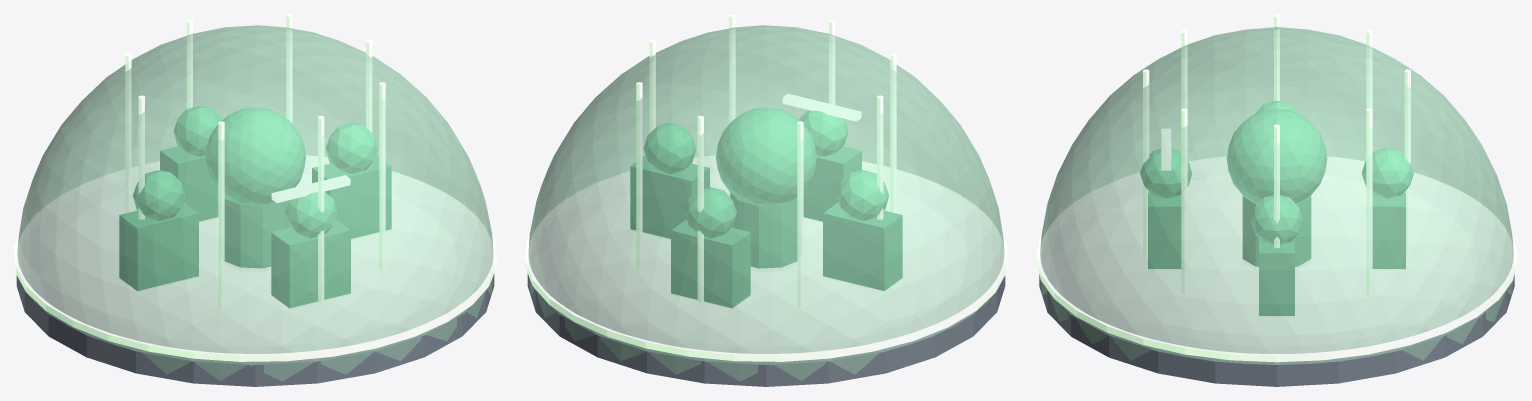
File: greenhouse.glb
3 views of the same model, side by side, from view 1: azimuth 30°, elevation 25°; view 2: azimuth 150°, elevation 25°; view 3: azimuth 270°, elevation 25° (orthographic).
Visible parts, largest first — view 1: dome, dome_equator_ring, base_ring, central_leaves, rack_-0.55_0.0, rack_0.0_0.55, central_planter, rack_0.55_0.0, rack_0.0_-0.55, leaves_0.55_0.0, leaves_-0.55_0.0, leaves_0.0_0.55 (+10 smaller); view 2: dome, dome_equator_ring, base_ring, central_leaves, rack_-0.55_0.0, rack_0.0_-0.55, rack_0.55_0.0, central_planter, rack_0.0_0.55, leaves_0.55_0.0, leaves_-0.55_0.0, leaves_0.0_-0.55 (+10 smaller); view 3: dome, dome_equator_ring, base_ring, central_leaves, rack_0.55_0.0, rack_0.0_-0.55, rack_0.0_0.55, leaves_0.0_-0.55, central_planter, leaves_0.55_0.0, leaves_0.0_0.55, dome_rib_0.79 (+8 smaller).
Part boxes in pixels (box(x1,y1,x2,y2)): dome: box(17, 25, 493, 381); dome_equator_ring: box(14, 154, 496, 361); base_ring: box(16, 274, 494, 386); central_leaves: box(205, 107, 305, 204); rack_-0.55_0.0: box(119, 202, 198, 290); rack_0.0_0.55: box(271, 219, 350, 307); central_planter: box(224, 197, 289, 268); rack_0.55_0.0: box(312, 155, 391, 238); rack_0.0_-0.55: box(160, 146, 218, 221); leaves_0.55_0.0: box(325, 123, 377, 173); leaves_-0.55_0.0: box(133, 170, 184, 220); leaves_0.0_0.55: box(285, 192, 337, 238); dome: box(528, 25, 1004, 381); dome_equator_ring: box(525, 154, 1007, 361); base_ring: box(527, 274, 1005, 386); central_leaves: box(716, 107, 816, 204); rack_-0.55_0.0: box(823, 202, 902, 290); rack_0.0_-0.55: box(671, 219, 750, 307); rack_0.55_0.0: box(630, 155, 709, 238); central_planter: box(730, 193, 797, 268); rack_0.0_0.55: box(803, 146, 861, 221); leaves_0.55_0.0: box(644, 123, 696, 173); leaves_-0.55_0.0: box(837, 170, 888, 220); leaves_0.0_-0.55: box(684, 187, 736, 238); dome: box(1040, 27, 1513, 364); dome_equator_ring: box(1036, 155, 1517, 362); base_ring: box(1039, 274, 1514, 386); central_leaves: box(1226, 109, 1327, 203); rack_0.55_0.0: box(1259, 238, 1294, 315); rack_0.0_-0.55: box(1372, 192, 1405, 268); rack_0.0_0.55: box(1148, 192, 1181, 268); leaves_0.0_-0.55: box(1361, 147, 1413, 198); central_planter: box(1242, 195, 1311, 266); leaves_0.55_0.0: box(1251, 195, 1302, 244); leaves_0.0_0.55: box(1140, 149, 1192, 198); dome_rib_0.79: box(1181, 108, 1187, 294).
Size of the model in its own units: 2.39 by 1.3 by 2.39.
